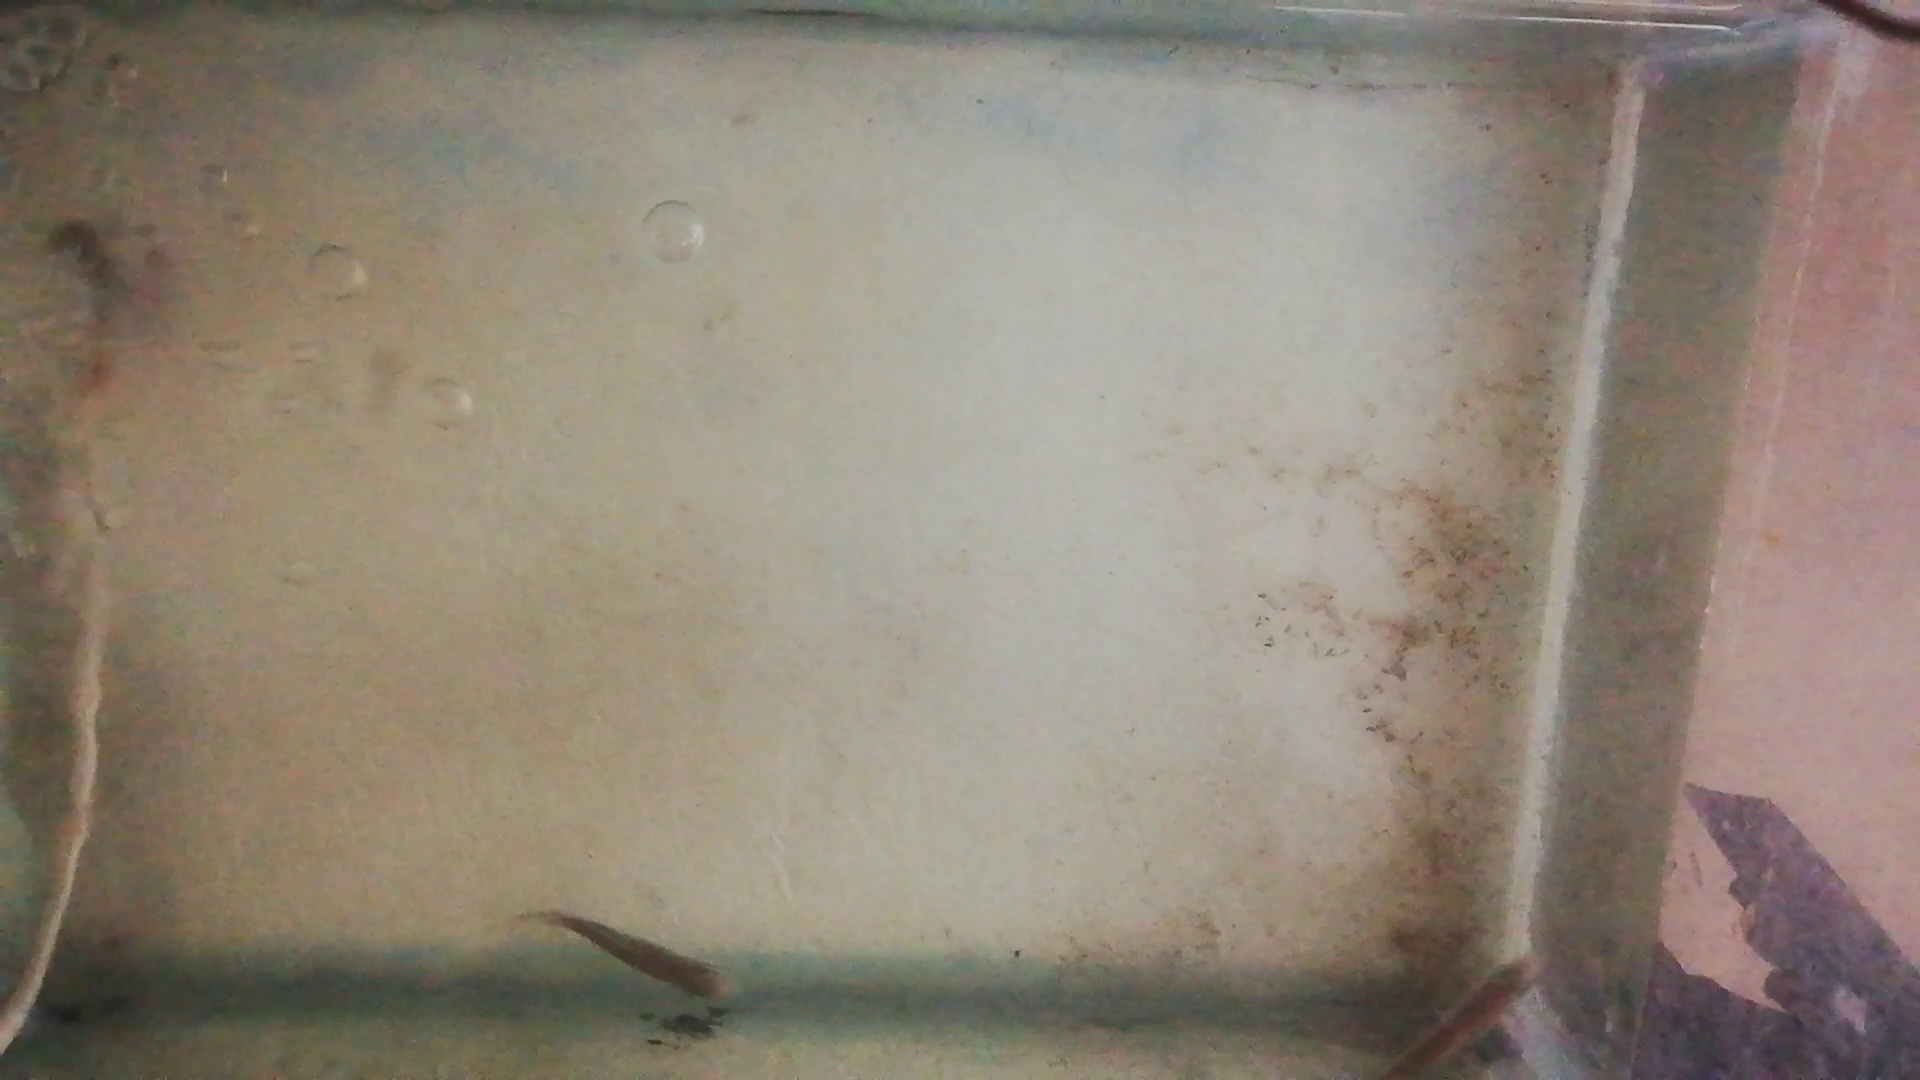fish: (1383, 957, 1542, 1080), (539, 910, 736, 1001)
